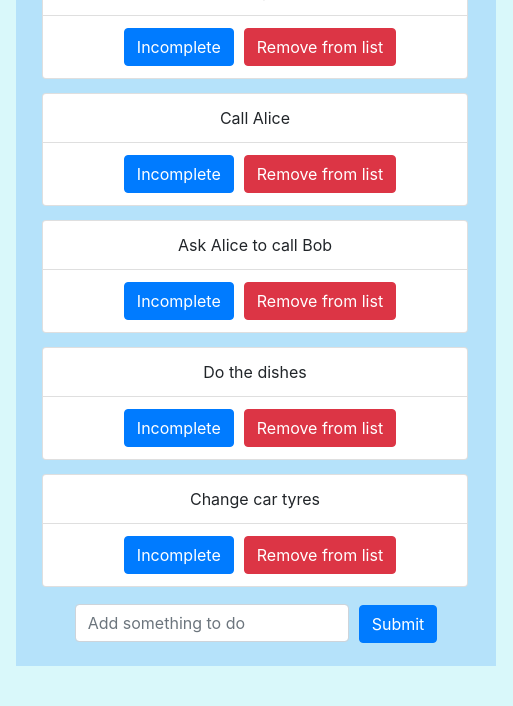
Test: Todo App › new todo can be added
(page scrolled)
Type "Write beautiful code" into the field with placeholder "Add something to do".
click(212, 623); type("Write beautiful code")  # box top-left (75, 604), bottom-right (349, 642)
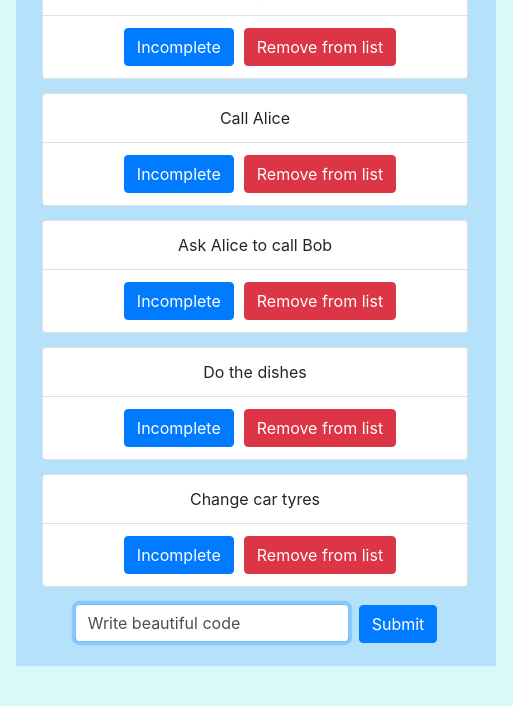
Click the button "Submit".
click(399, 624)  # box top-left (359, 605), bottom-right (438, 643)
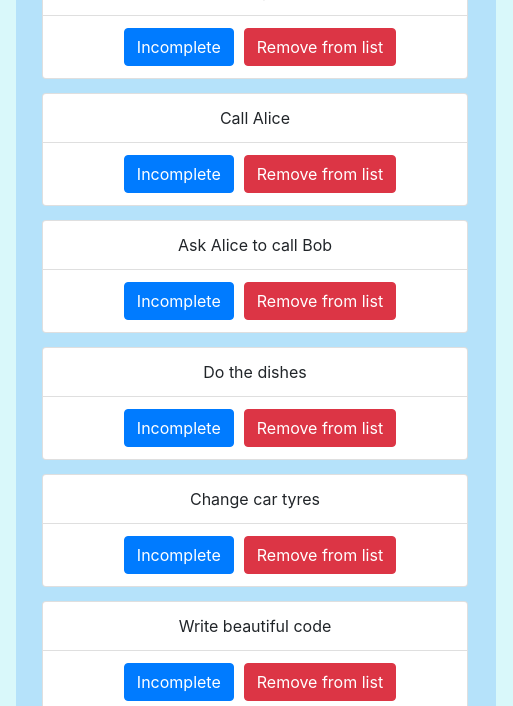
Result: the text "Write beautiful code" is shown at top-left (42, 601), bottom-right (468, 651)
